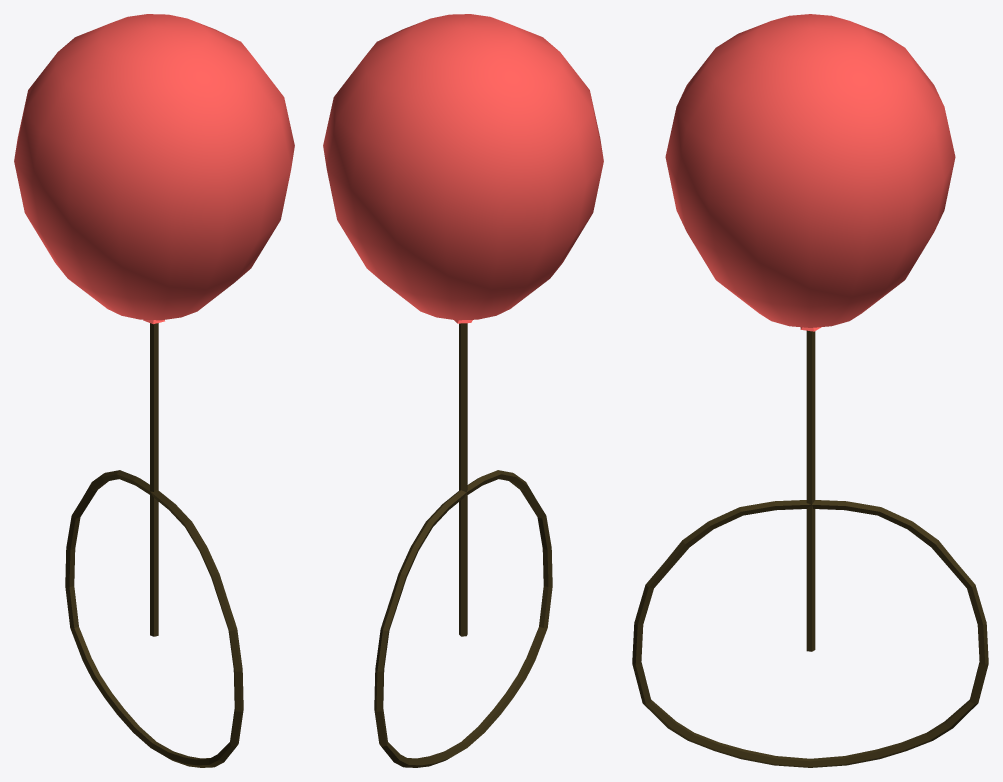
The model's file is Balloon.fbx.
3 views of the same model, side by side, from view 1: azimuth 30°, elevation 25°; view 2: azimuth 150°, elevation 25°; view 3: azimuth 270°, elevation 25° (orthographic). The views are drawn at different scales.
Parts seen in each view (by area): view 1: Balloon, Rope2.001, Rope1.001; view 2: Balloon, Rope2.001, Rope1.001; view 3: Balloon, Rope2.001, Rope1.001.
Boxes of the visible parts, x1,y1,x2,y2 form: Balloon: (14, 14, 294, 320); Rope2.001: (65, 470, 243, 767); Rope1.001: (150, 323, 158, 636); Balloon: (323, 14, 603, 320); Rope2.001: (374, 470, 552, 767); Rope1.001: (459, 323, 467, 636); Balloon: (665, 14, 955, 327); Rope2.001: (632, 500, 988, 767); Rope1.001: (806, 330, 815, 651).
Bounding box in the file's own units: 120 × 338 × 148.
